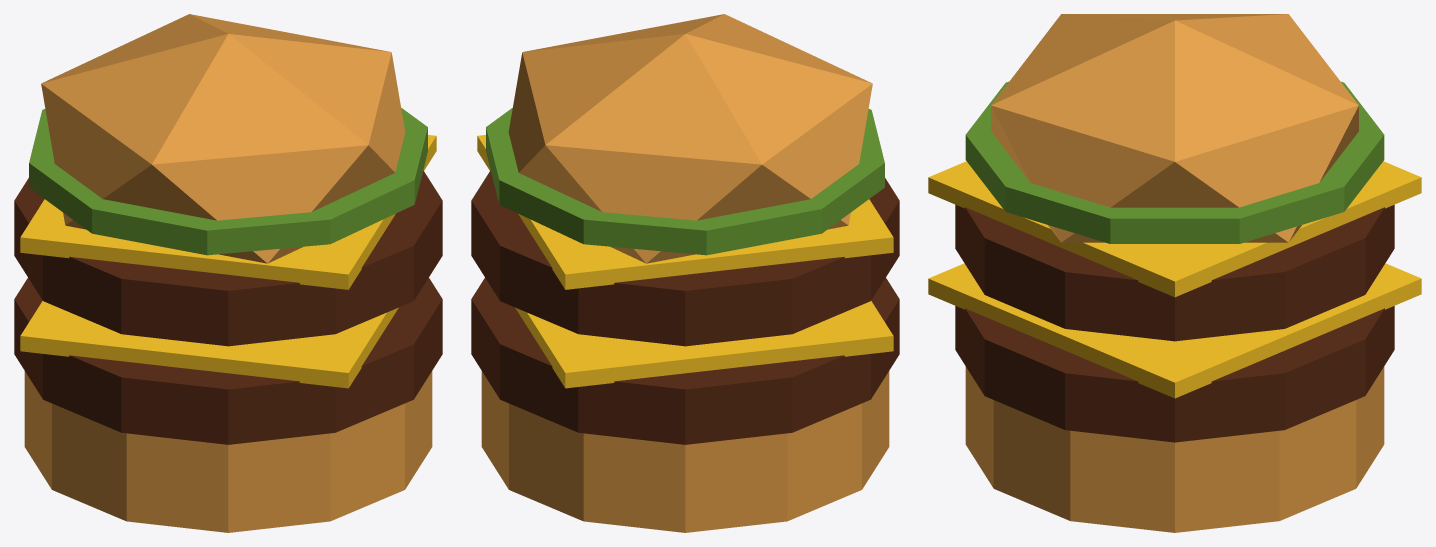
Rendered from cheeseburger_double.glb.
The picture shows the model from 3 angles, left to right: view 1: azimuth 30°, elevation 25°; view 2: azimuth 150°, elevation 25°; view 3: azimuth 270°, elevation 25°; orthographic projection. The views are drawn at different scales.
Parts seen in each view (by area): view 1: cheeseburger_double; view 2: cheeseburger_double; view 3: cheeseburger_double.
Boxes of the visible parts, bbox=[...] form: cheeseburger_double: bbox=[14, 14, 442, 532]; cheeseburger_double: bbox=[471, 14, 899, 532]; cheeseburger_double: bbox=[928, 14, 1421, 532].
Bounding box in the file's own units: 0.1414 × 0.1341 × 0.1414.
